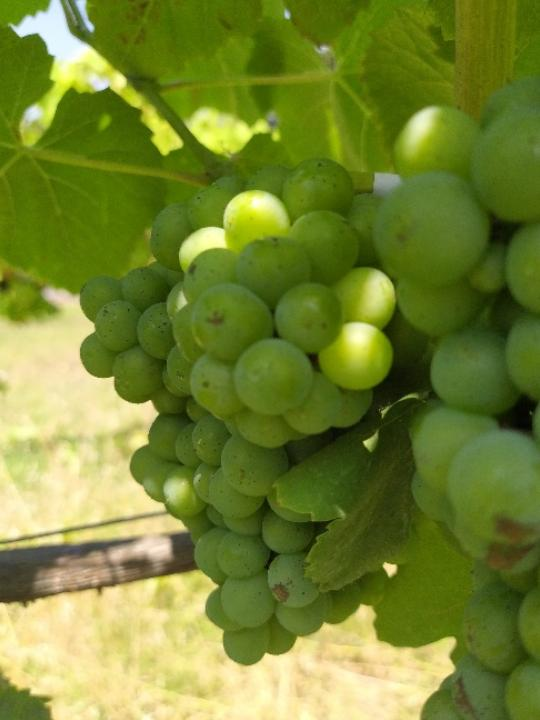grape: (76, 157, 385, 669)
